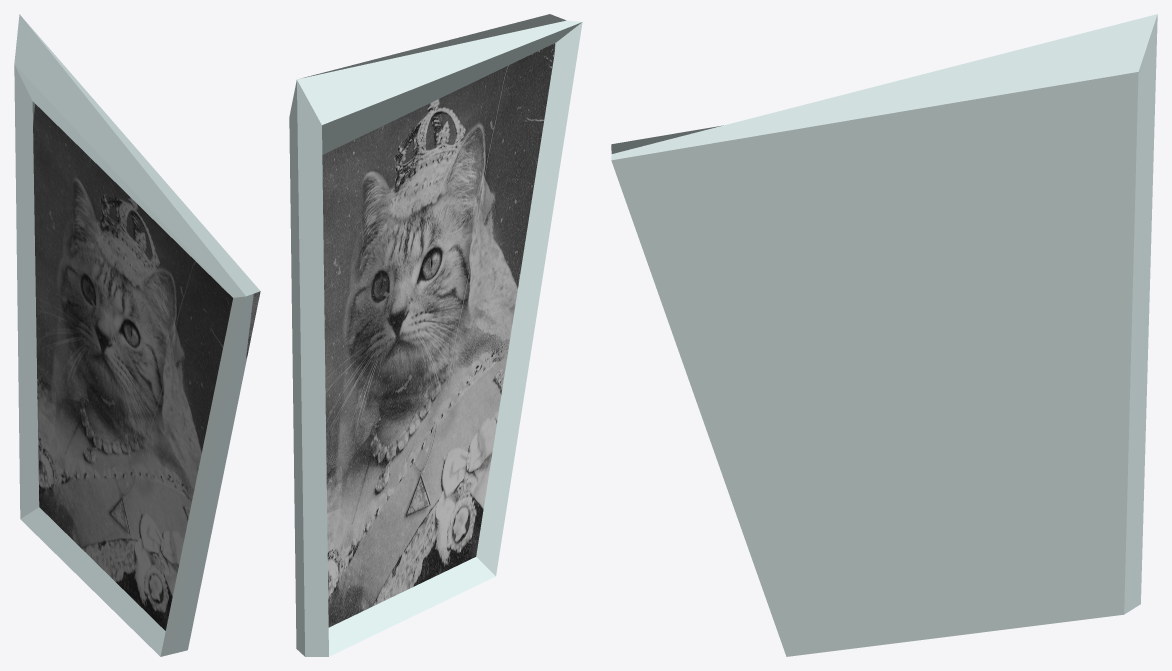
The model's file is photoFrameL.FBX.
3 renders of one model, left to right at view 1: azimuth 30°, elevation 25°; view 2: azimuth 150°, elevation 25°; view 3: azimuth 270°, elevation 25°, orthographic. The views are drawn at different scales.
Visible parts, largest first — view 1: frame_R003; view 2: frame_R003; view 3: frame_R003.
Part boxes in pixels (<box>): frame_R003: <box>14,14,260,656</box>; frame_R003: <box>289,14,582,656</box>; frame_R003: <box>611,14,1157,656</box>.
Size of the model in its own units: 1.31 by 24.09 by 18.8.
Materials: 1 (1 with a texture image).
